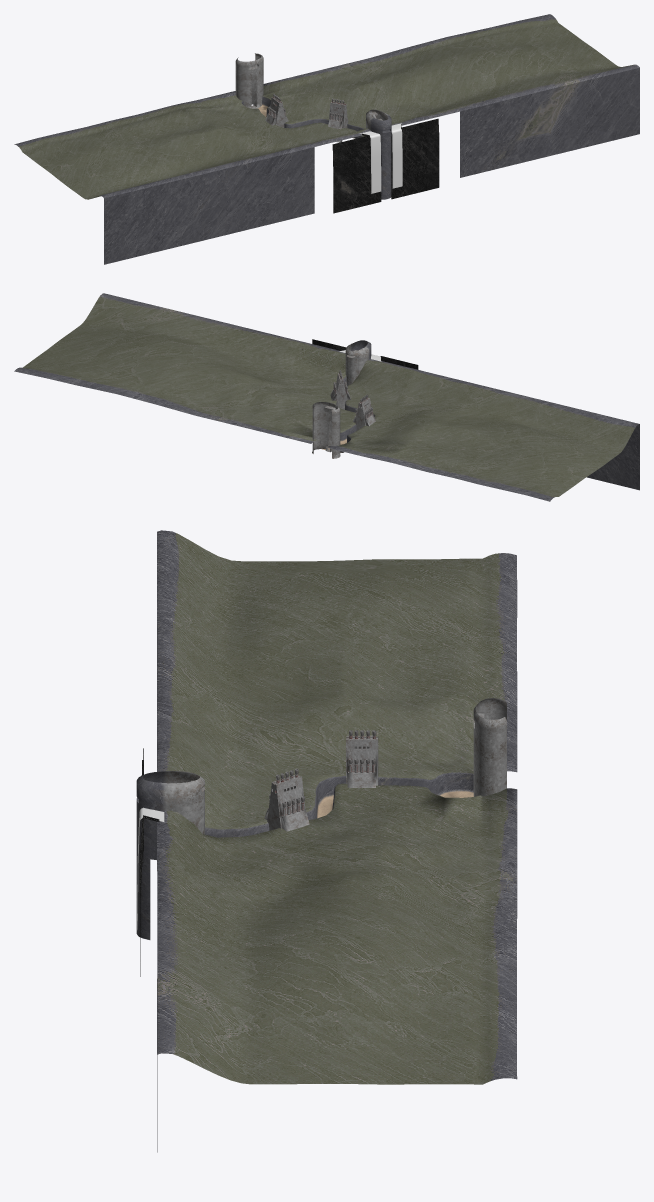
File: Level1_FINALTEXTURED.gltf
3 renders of one model, top to bottom at view 1: azimuth 30°, elevation 25°; view 2: azimuth 150°, elevation 25°; view 3: azimuth 270°, elevation 25°, orthographic. The views are drawn at different scales.
Visible parts, largest first — view 1: LevelTerrain, BasaltCliff, BossTower, WatchTower, WaterfallRight, WaterfallLeft, FirstTower, SecondTower; view 2: LevelTerrain, BossTower, WatchTower, SecondTower, FirstTower, BasaltCliff; view 3: LevelTerrain, WatchTower, BossTower, FirstTower, SecondTower.
Boxes of the visible parts, x1,y1,x2,y2 form: LevelTerrain: [14, 14, 639, 264]; BasaltCliff: [332, 118, 439, 213]; BossTower: [235, 53, 263, 108]; WatchTower: [366, 109, 391, 199]; WaterfallRight: [391, 123, 402, 188]; WaterfallLeft: [360, 131, 381, 193]; FirstTower: [328, 98, 348, 142]; SecondTower: [265, 94, 288, 127]; LevelTerrain: [14, 293, 639, 501]; BossTower: [312, 402, 340, 458]; WatchTower: [345, 340, 371, 385]; SecondTower: [353, 394, 375, 430]; FirstTower: [330, 370, 350, 409]; BasaltCliff: [312, 339, 418, 369]; LevelTerrain: [157, 530, 517, 1152]; WatchTower: [136, 770, 204, 939]; BossTower: [473, 698, 506, 796]; FirstTower: [264, 768, 309, 831]; SecondTower: [346, 730, 378, 787].
Size of the model in its own units: 3889 by 627 by 1196.
Materials: 5 (5 with a texture image).
